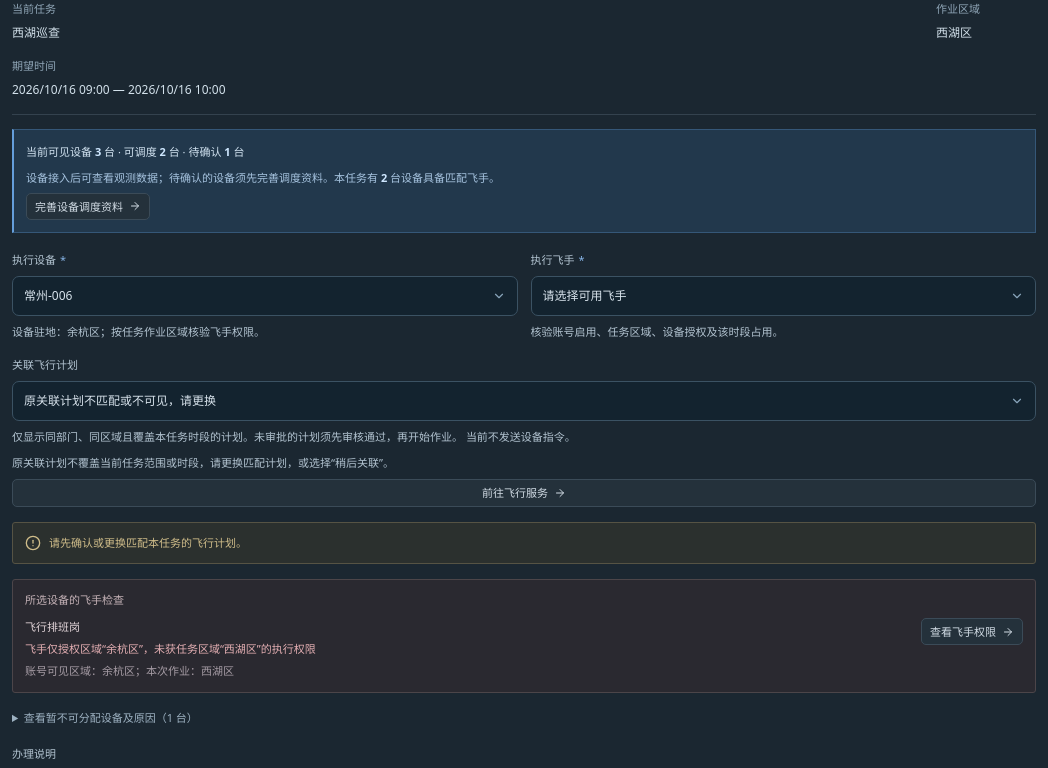
任务分配以服务端规则和设备飞手组合为准 › 计划可清空为稍后关联，原关联计划无效时仍阻止误提交
Click the dropdown named "执行飞手*" at [585, 295], box left=530, top=276, right=1036, bottom=316
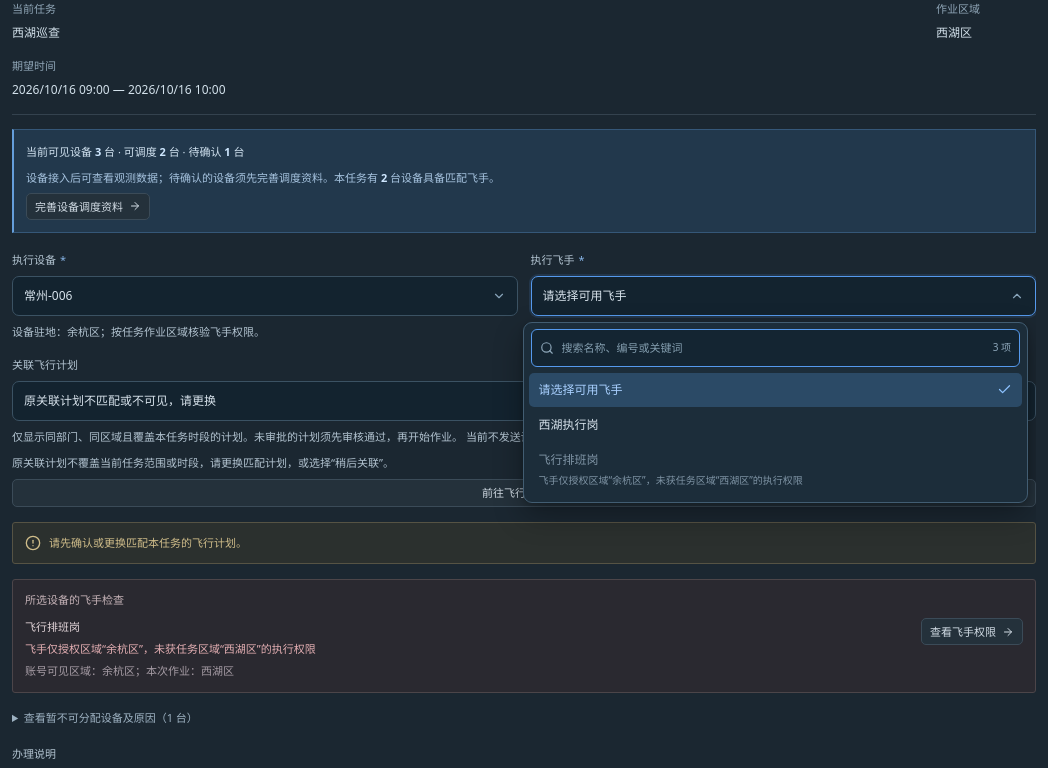
Click the option "西湖执行岗" at [568, 424], box left=538, top=416, right=598, bottom=433
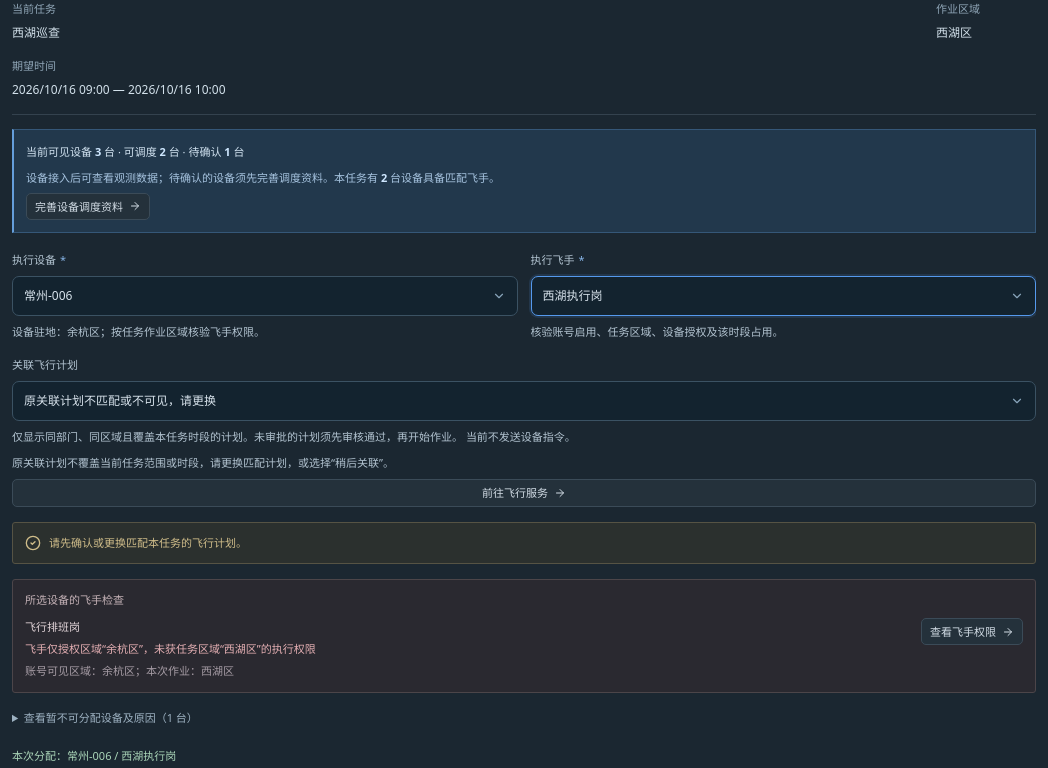
Click the dropdown named "关联飞行计划" at [120, 400], box left=12, top=381, right=1036, bottom=421
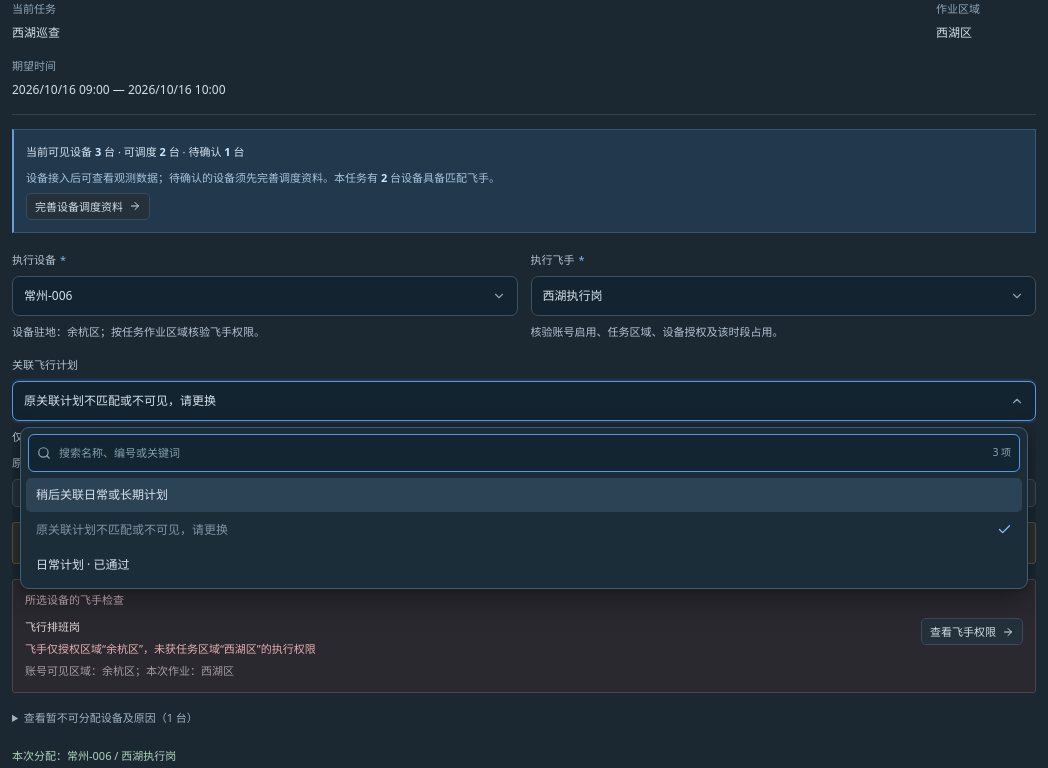
Click the option "稍后关联日常或长期计划" at [102, 494], box left=26, top=478, right=1022, bottom=512
(page scrolled)
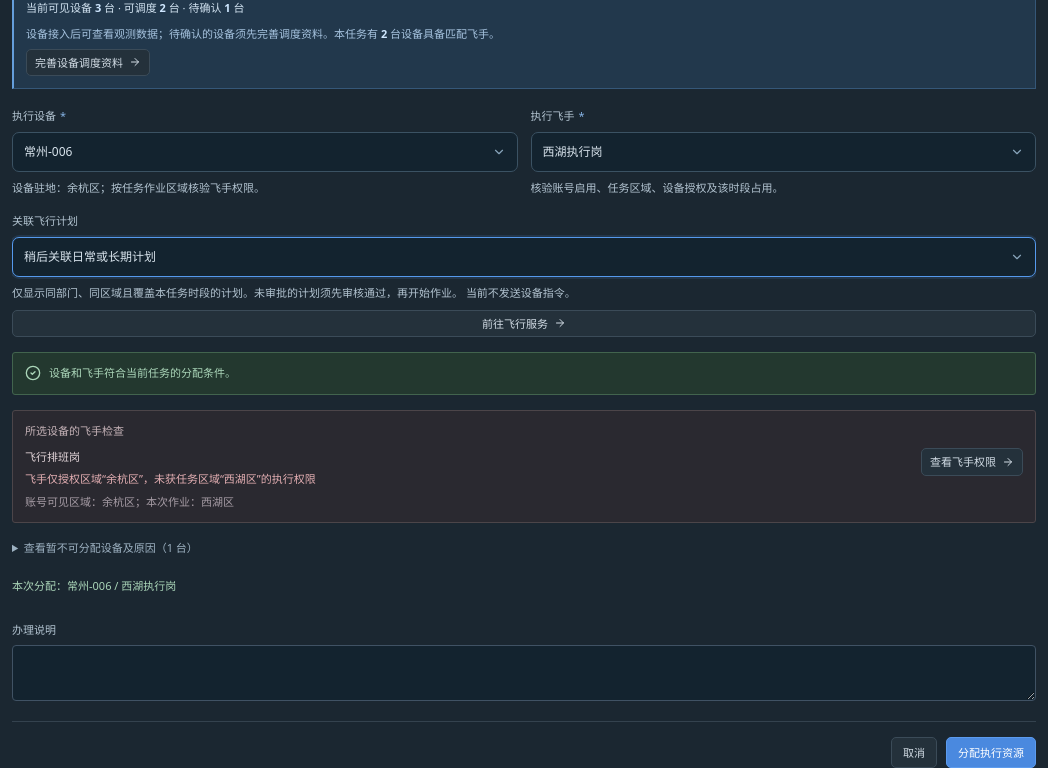
Result: the button "分配执行资源" is enabled at left=946, top=737, right=1036, bottom=767
